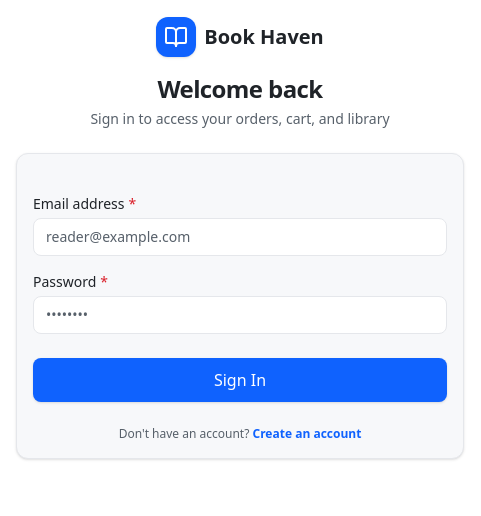
Test: Auth Pages › renders login form with validation and inputs
Expected: the heading "Welcome back" is shown, [157,72,322,105]
Expected: the field labelled "Email address*" is shown, [33,218,447,256]
Click the button "Sign In" at (240, 380), box [33,358,447,402]
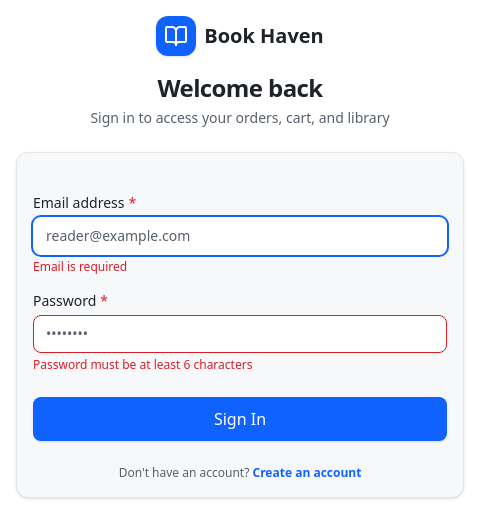
Now the text "Email is required" is shown, box [33,258,127,275]
Now the text "Password must be at least 6 characters" is shown, box [33,356,252,373]
